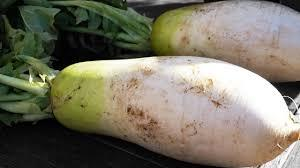radish: (18, 14, 140, 44), (68, 0, 141, 23)
